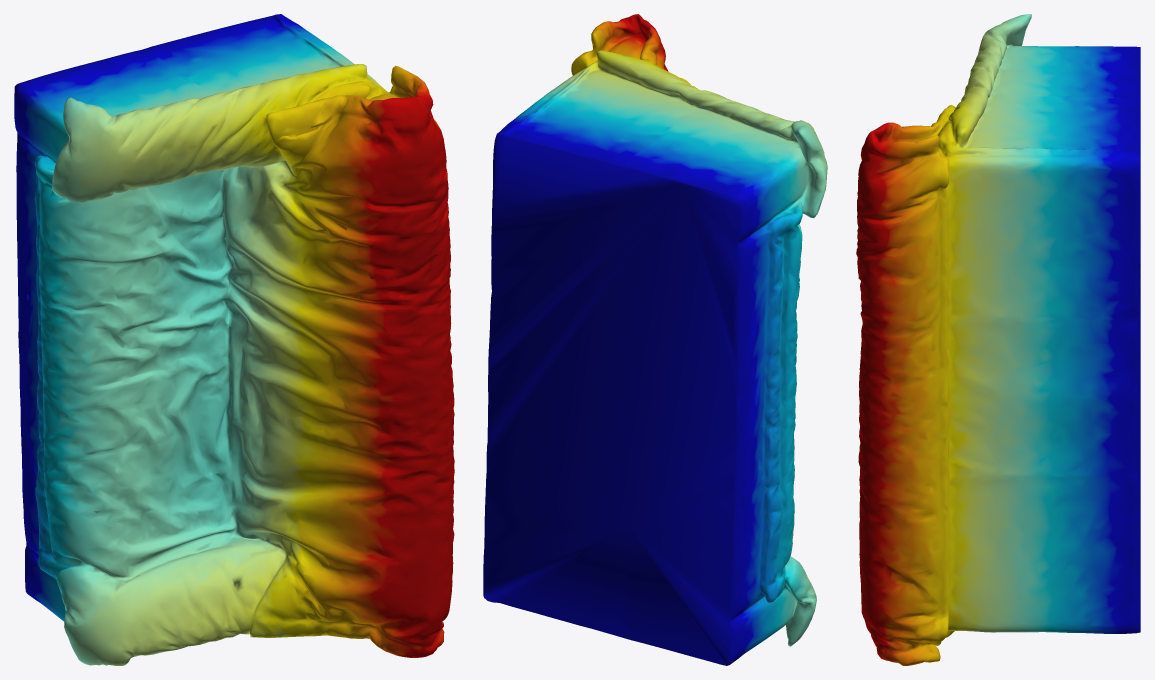
Rendered from sofa_fem.glb.
3 views of the same model, side by side, from view 1: azimuth 30°, elevation 25°; view 2: azimuth 150°, elevation 25°; view 3: azimuth 270°, elevation 25° (orthographic). The views are drawn at different scales.
Parts seen in each view (by area): view 1: Sofa.obj; view 2: Sofa.obj; view 3: Sofa.obj.
Part boxes in pixels (x1,y1,x2,y2): Sofa.obj: (14, 14, 454, 665); Sofa.obj: (483, 14, 827, 665); Sofa.obj: (856, 14, 1140, 665).
Bounding box in the file's own units: 1 × 1.65 × 0.8133.
